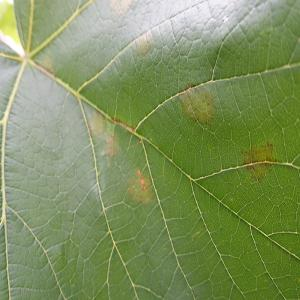Folha: (0, 0, 300, 300)
Fungo: (178, 82, 216, 126), (87, 109, 119, 159), (241, 140, 277, 182), (126, 168, 154, 206), (103, 134, 119, 158), (136, 169, 146, 191), (140, 176, 146, 190)
